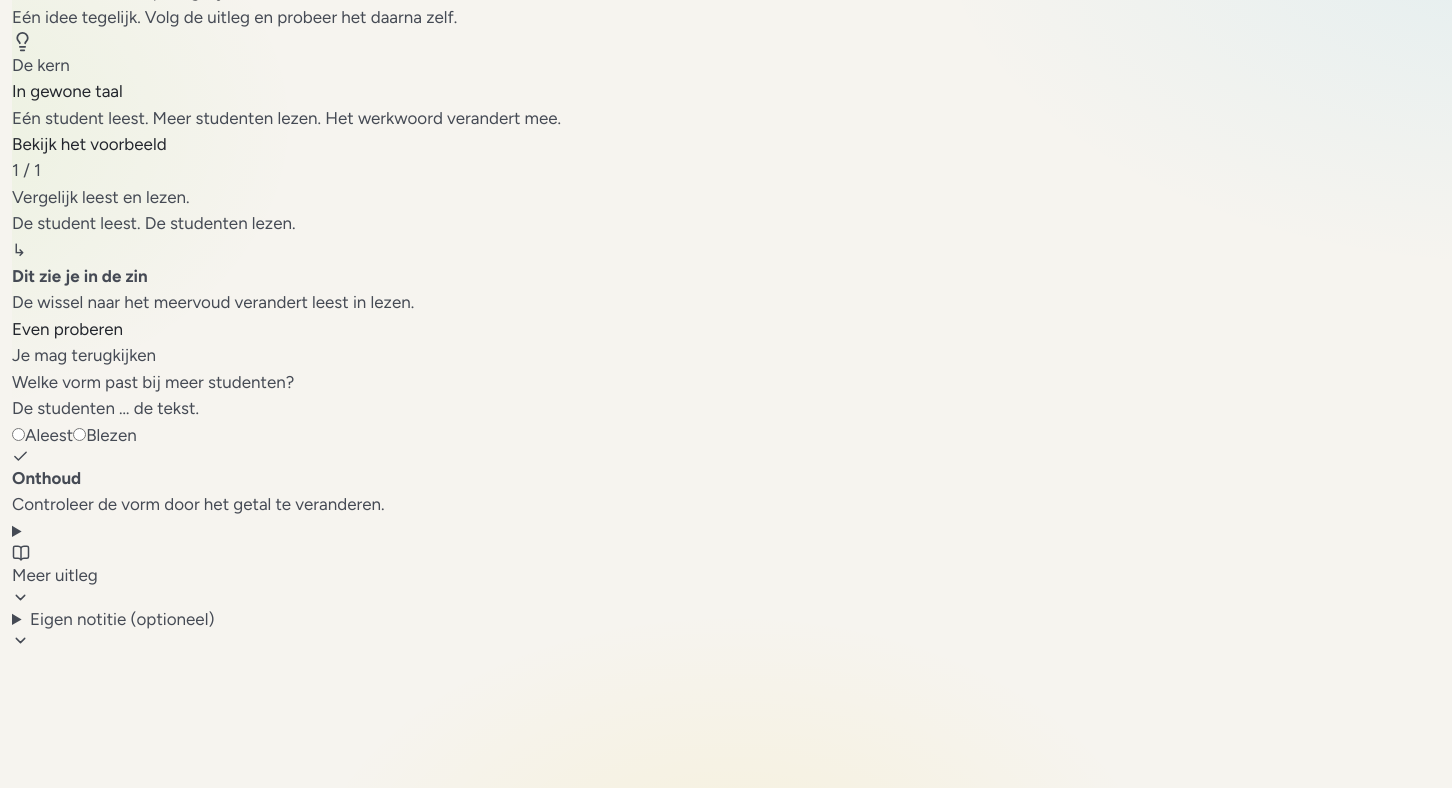
Test: interactie, hint en herstel in Ontleed › geeft eerst uitleg en laat met feedback oefenen zonder een verplichte notitie
This screenshot has width=1452, height=788.
expect the text "Eén student leest. Meer studenten lezen. Het werkwoord verandert mee." is shown: met, box [12,108,561,128]
expect the text "De wissel naar het meervoud verandert leest in lezen." is shown: met, box [12,292,414,312]
Click the radio button labelled "leest": (18, 434) [12,428,25,440]
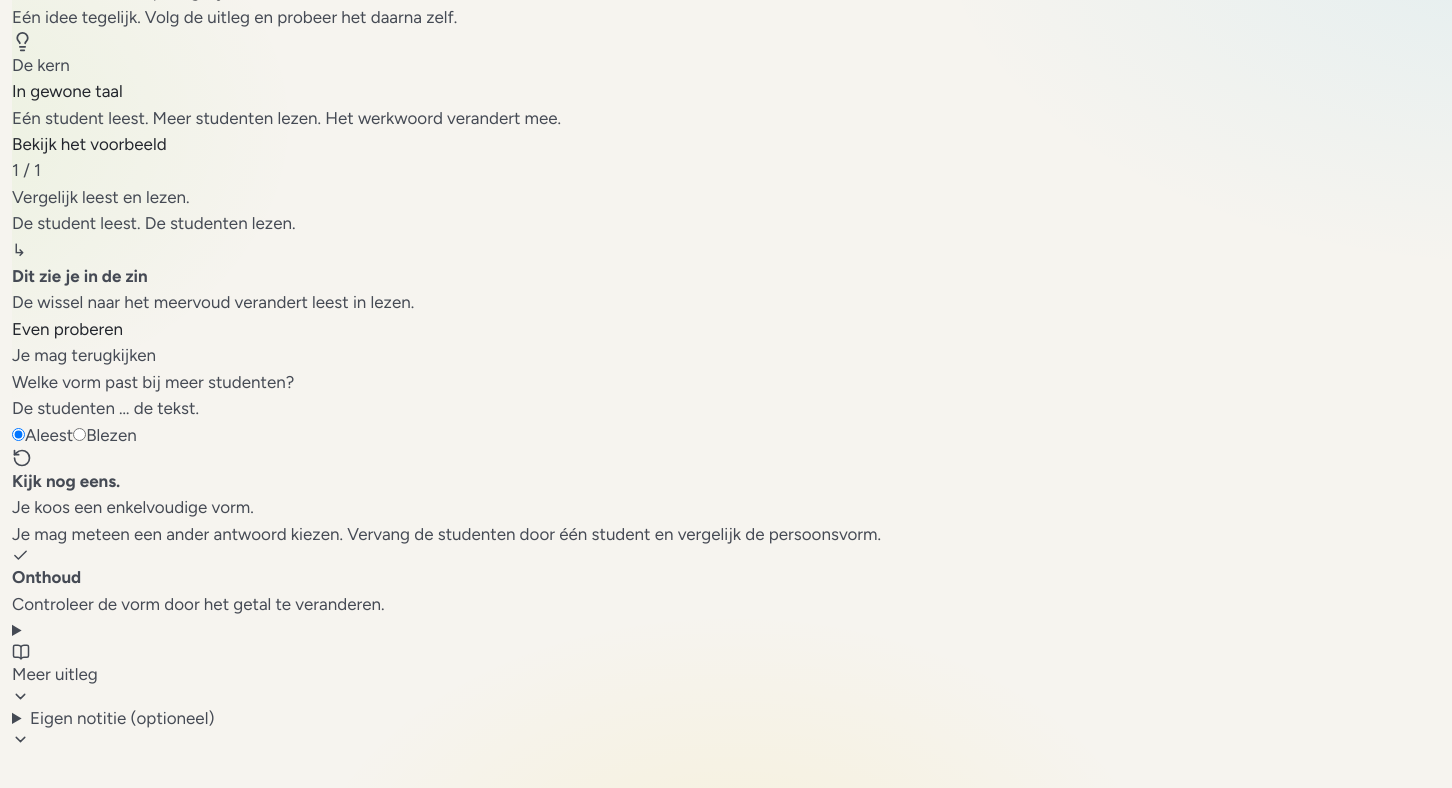
expect the message shows "Kijk nog eens.": met, box [12,471,120,491]
Click the radio button labelled "lezen": (80, 434) [73,428,86,440]
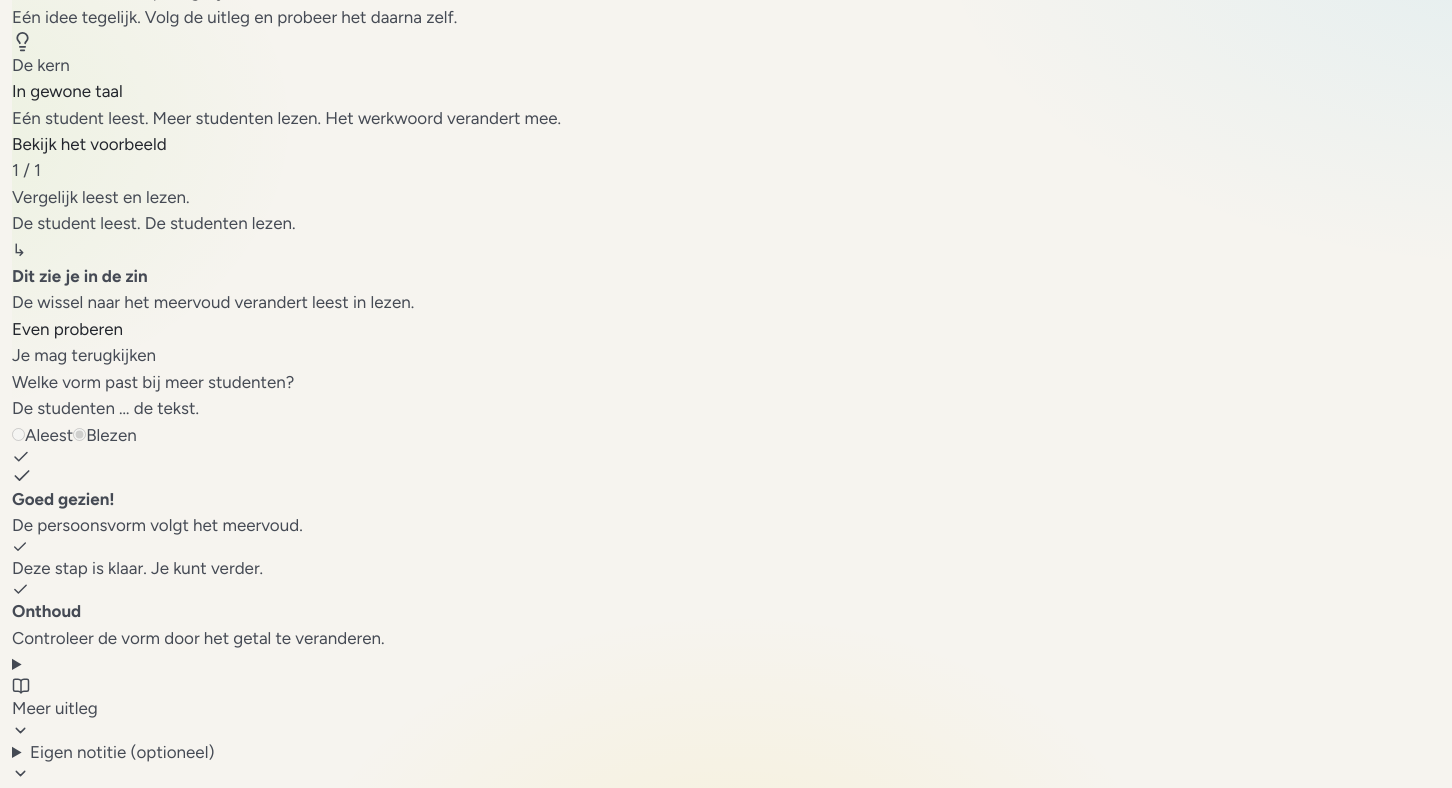
expect the message shows "Goed gezien!": met, box [12,489,115,509]
expect the text "Deze stap is klaar. Je kunt verder." is shown: met, box [12,539,263,578]
Click the heading "Eigen notitie (optioneel)": (113, 762) [12,742,214,782]
(page scrolled)
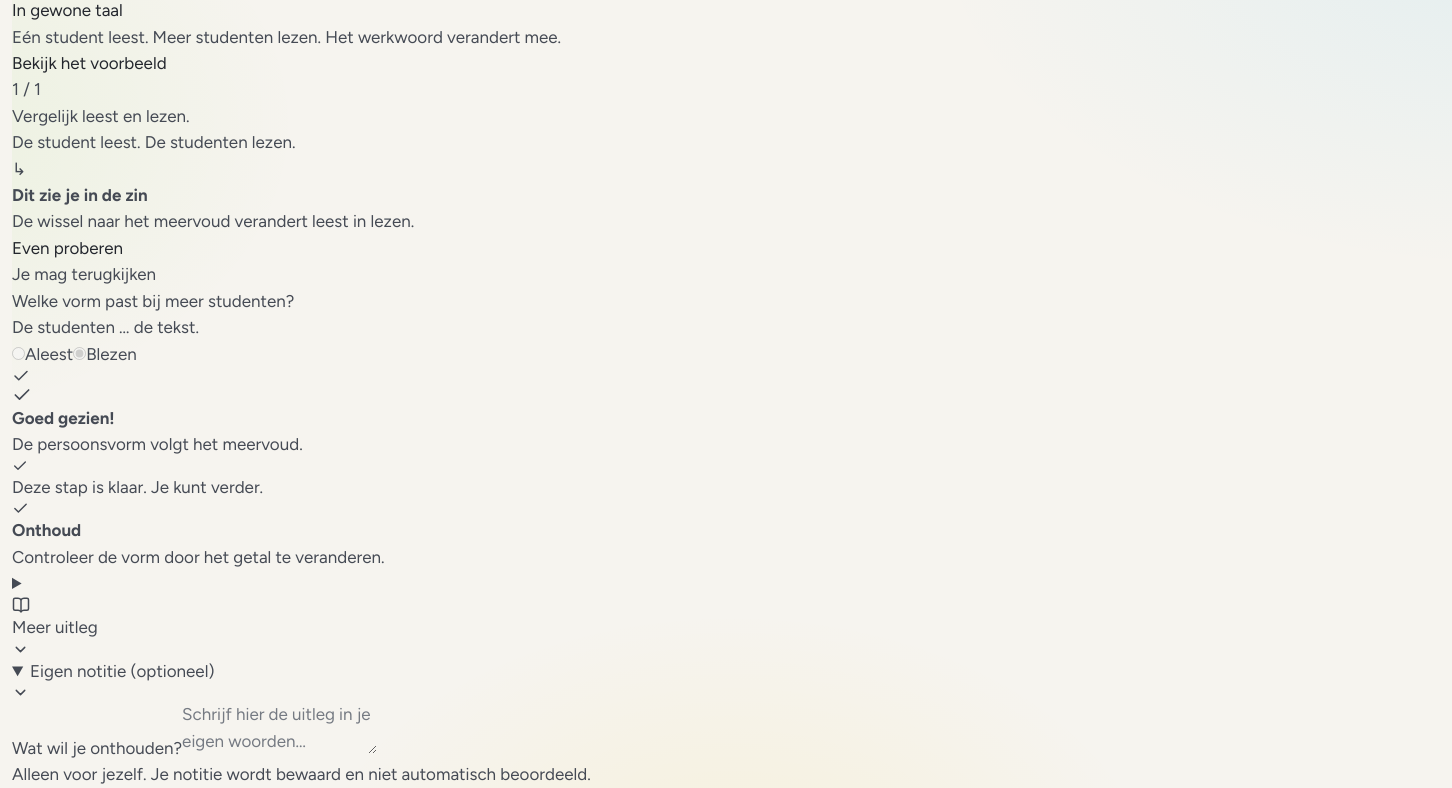
In the text box: (280, 728) [182,701,377,754], type "Meervoud"
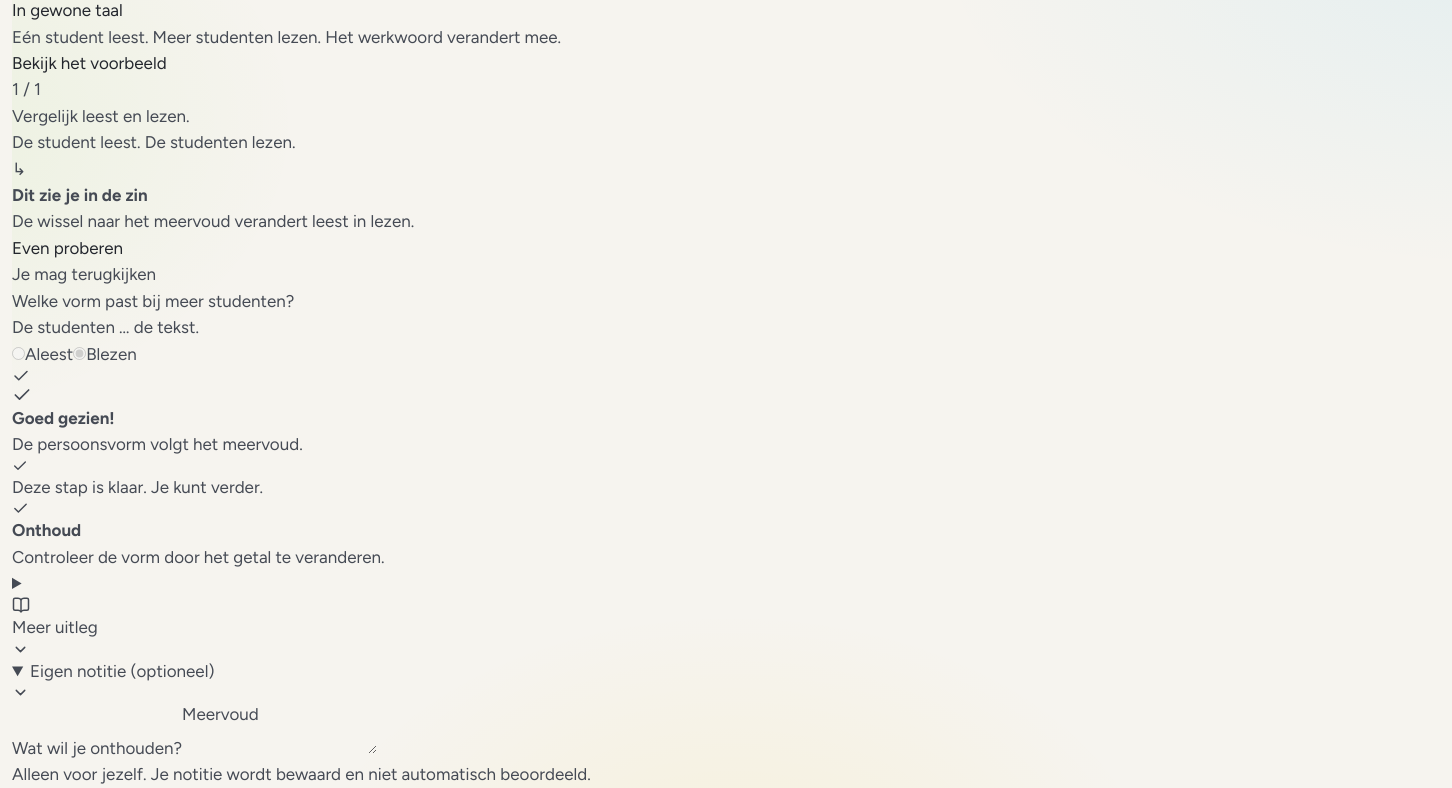
Click the heading "Meer uitleg": (55, 627) [12,596,98,658]
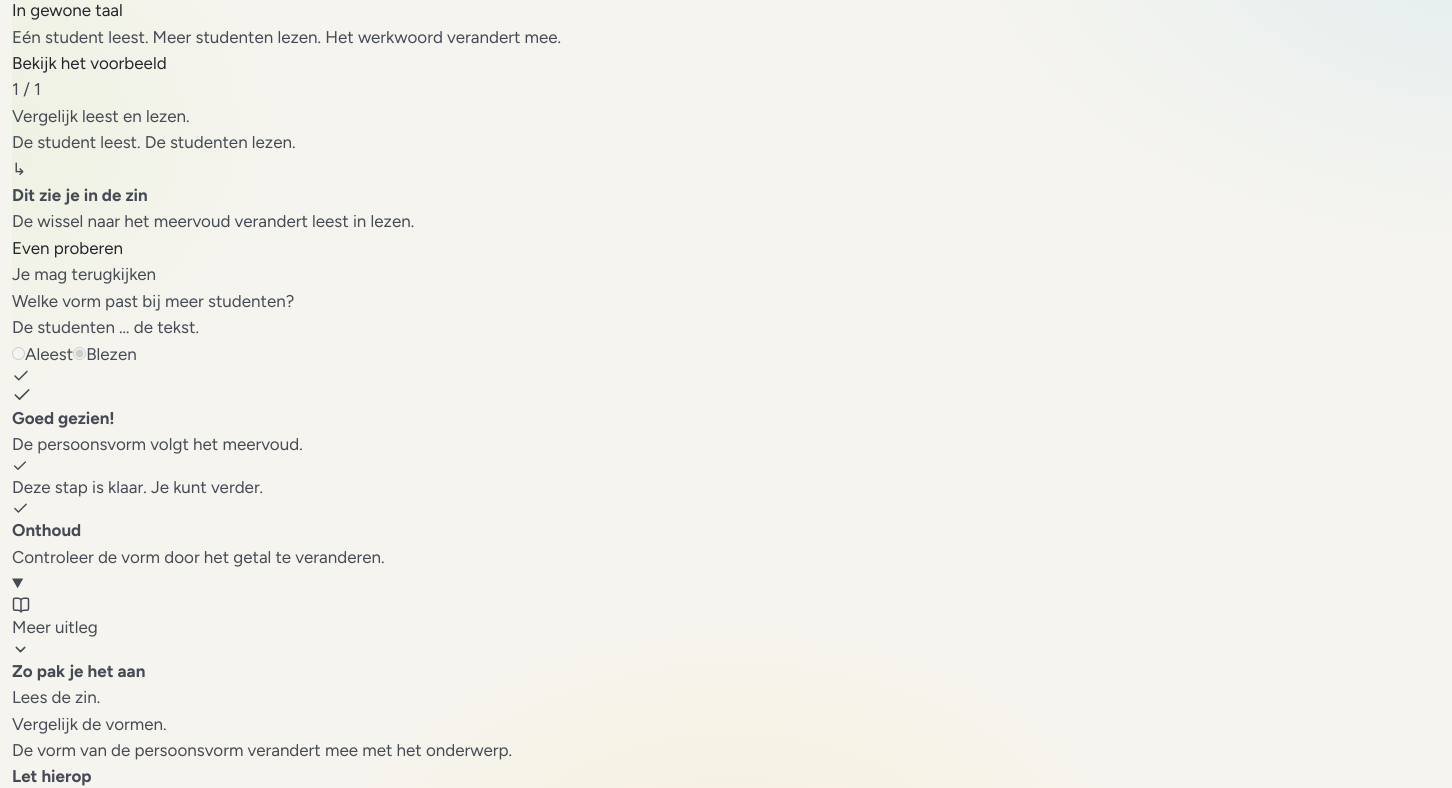
expect the text "De vorm van de persoonsvorm verandert mee met het onderwerp." is shown: met, box [12,740,512,760]
